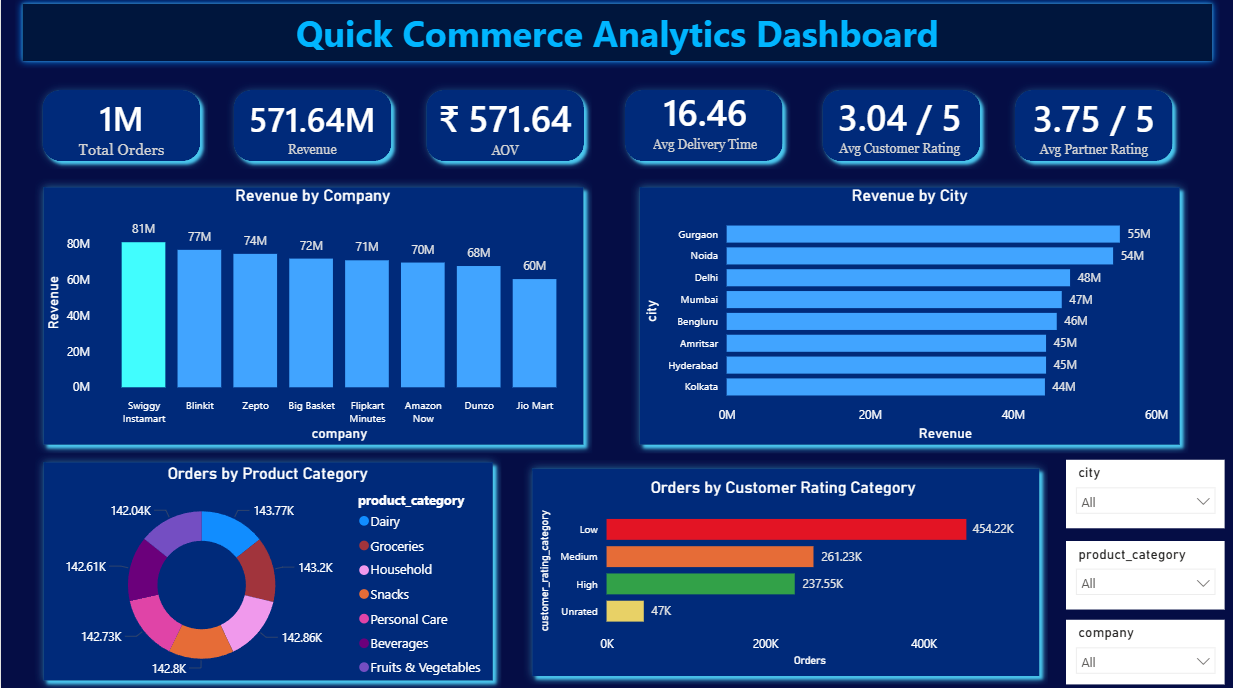

Layout of this report page (visuals, bound fields, positions):
{"tool":"powerbi","page":{"name":"Business Overview","canvas":[1280,720],"ordinal":0},"visuals":[{"type":"shape","box":[14.4,0,1252.2,75.6],"z":0},{"type":"shape","box":[35.6,90,180,90],"z":1000},{"type":"shape","box":[433.3,90,180,90],"z":2000},{"type":"shape","box":[640,90,180,90],"z":3000},{"type":"shape","box":[1045.6,90,180,90],"z":4000},{"type":"shape","box":[845.6,90,180,90],"z":5000},{"type":"shape","box":[233.3,90,180,90],"z":6000},{"type":"cardVisual","fields":{"Data":["quick_commerce_engineered.total_orders"]},"box":[35.1,97.4,180.5,77.9],"z":7000},{"type":"cardVisual","fields":{"Data":["quick_commerce_engineered.aov"]},"box":[433.3,96.7,180,78.9],"z":8000},{"type":"cardVisual","fields":{"Data":["quick_commerce_engineered.Customer_Rating_Card"]},"box":[856.6,92.9,153.2,79.6],"z":9000},{"type":"cardVisual","fields":{"Data":["quick_commerce_engineered.avg_delivery_time"]},"box":[641.1,90,180,78.9],"z":10000},{"type":"cardVisual","fields":{"Data":["quick_commerce_engineered.Partner_Rating_Card"]},"box":[1045.5,94.8,180.5,79.2],"z":11000},{"type":"cardVisual","fields":{"Data":["quick_commerce_engineered.total_revenue"]},"box":[236.7,100,174.4,70],"z":12000},{"type":"shape","box":[35.1,189.6,579.2,285.7],"z":13000},{"type":"clusteredColumnChart","title":"Revenue by Company","fields":{"Category":["quick_commerce_engineered.company"],"Y":["Sum(quick_commerce_engineered.order_value)"]},"box":[41.6,197.4,564.9,270.1],"z":14000},{"type":"shape","box":[654.5,189.6,579.2,285.7],"z":15000},{"type":"barChart","title":"Revenue by City","fields":{"Category":["quick_commerce_engineered.city"],"Y":["Sum(quick_commerce_engineered.order_value)"]},"box":[662.3,197.4,563.6,270.1],"z":16000},{"type":"shape","box":[35,475,485,245],"z":17000},{"type":"donutChart","title":"Orders by Product Category","fields":{"Y":["CountNonNull(quick_commerce_engineered.Order_ID)"],"Category":["quick_commerce_engineered.product_category"]},"box":[41.2,486.2,471.2,233.8],"z":18000},{"type":"shape","box":[542.5,481.2,545,233.8],"z":19000},{"type":"clusteredBarChart","title":"Orders by Customer Rating Category","fields":{"Category":["quick_commerce_engineered.customer_rating_category"],"Y":["CountNonNull(quick_commerce_engineered.Order_ID)"]},"box":[555,500,516.2,201.2],"z":20000},{"type":"slicer","fields":{"Values":["quick_commerce_engineered.product_category"]},"box":[1106.5,566.2,165,71.4],"z":21000},{"type":"slicer","fields":{"Values":["quick_commerce_engineered.city"]},"box":[1106.5,481.8,165,71.4],"z":22000},{"type":"slicer","fields":{"Values":["quick_commerce_engineered.company"]},"box":[1106.5,648.1,165,67.5],"z":23000}]}

Visuals, with their boxes in screenshot pixels (x1, y1, x2, y2), scaled from the page's 1280x720 canvas onto the 1233x688 screenshot:
shape: rect(14, 0, 1220, 72)
shape: rect(34, 86, 208, 172)
shape: rect(417, 86, 591, 172)
shape: rect(616, 86, 790, 172)
shape: rect(1007, 86, 1181, 172)
shape: rect(815, 86, 988, 172)
shape: rect(225, 86, 398, 172)
cardVisual - quick_commerce_engineered.total_orders: rect(34, 93, 208, 168)
cardVisual - quick_commerce_engineered.aov: rect(417, 92, 591, 168)
cardVisual - quick_commerce_engineered.Customer_Rating_Card: rect(825, 89, 973, 165)
cardVisual - quick_commerce_engineered.avg_delivery_time: rect(618, 86, 791, 161)
cardVisual - quick_commerce_engineered.Partner_Rating_Card: rect(1007, 91, 1181, 166)
cardVisual - quick_commerce_engineered.total_revenue: rect(228, 96, 396, 162)
shape: rect(34, 181, 592, 454)
"Revenue by Company" clusteredColumnChart: rect(40, 189, 584, 447)
shape: rect(630, 181, 1188, 454)
"Revenue by City" barChart: rect(638, 189, 1181, 447)
shape: rect(34, 454, 501, 687)
"Orders by Product Category" donutChart: rect(40, 465, 494, 687)
shape: rect(523, 460, 1048, 683)
"Orders by Customer Rating Category" clusteredBarChart: rect(535, 478, 1032, 670)
slicer - quick_commerce_engineered.product_category: rect(1066, 541, 1225, 609)
slicer - quick_commerce_engineered.city: rect(1066, 460, 1225, 529)
slicer - quick_commerce_engineered.company: rect(1066, 619, 1225, 684)
